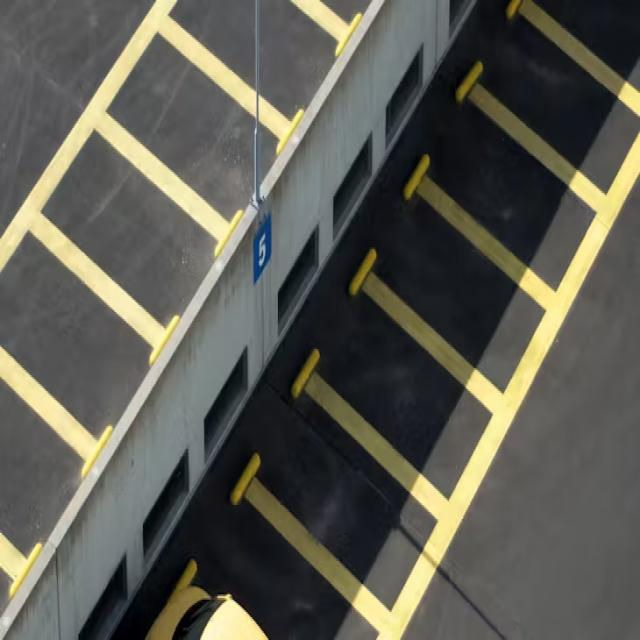libre: (232, 356, 460, 638), (290, 248, 510, 523), (347, 158, 563, 412), (408, 69, 611, 310), (25, 105, 229, 342), (84, 11, 293, 233), (0, 198, 168, 456), (464, 0, 639, 217), (189, 462, 398, 637), (150, 0, 350, 131), (0, 357, 95, 577)
ocupado: (134, 556, 287, 638)
